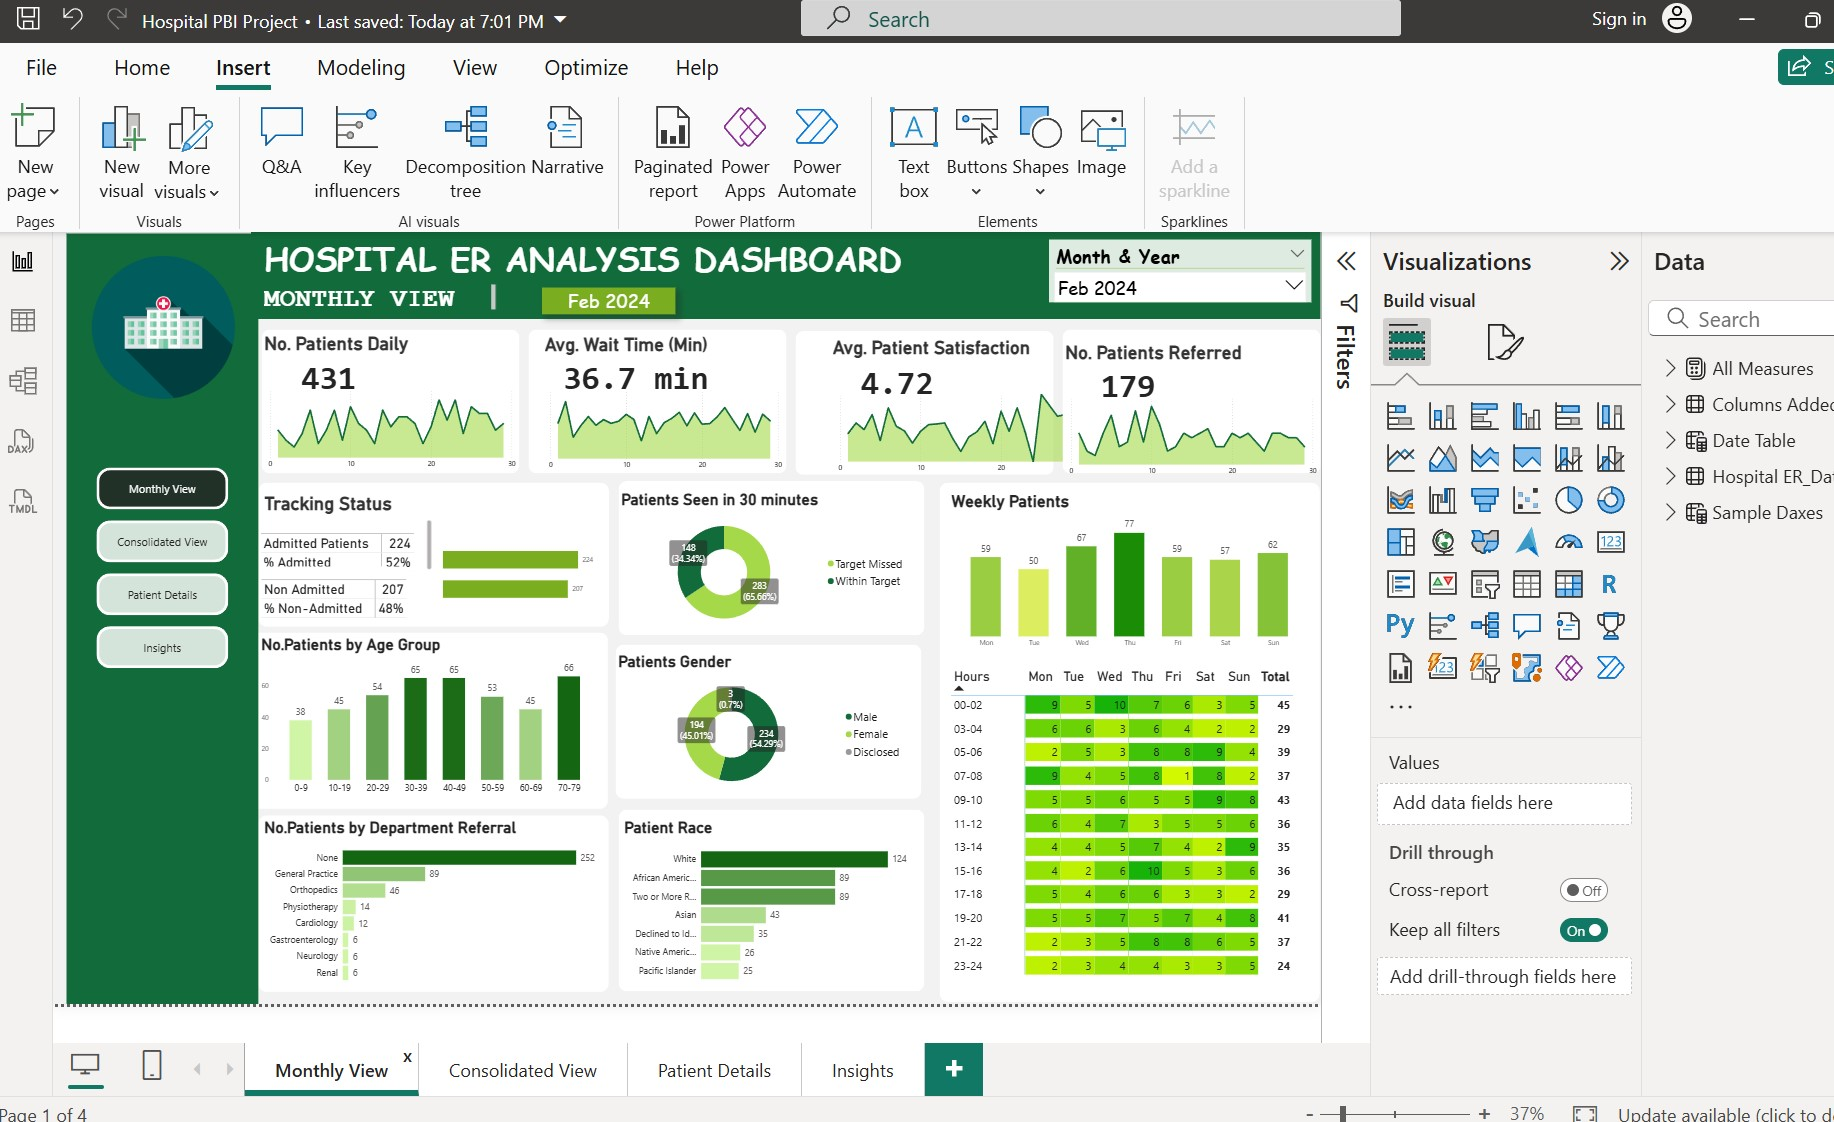

This screenshot's page, from the dashboard's own definition file:
{"tool":"powerbi","page":{"name":"Monthly View","canvas":[2300,1400],"ordinal":0},"visuals":[{"type":"shape","box":[24.5,2.7,348.3,1398.5],"z":0,"group":"g1"},{"type":"shape","box":[1025,452.5,555,280],"z":0},{"type":"shape","box":[359.2,0,1940,157.8],"z":1000},{"type":"textbox","box":[378.2,0,1276.1,108.8],"z":2000},{"type":"shape","box":[378.2,176.9,468,261.2],"z":3000},{"type":"card","fields":{"Values":["All Measures.No.of Patients"]},"box":[404.4,222.1,188.2,72.1],"z":4000},{"type":"slicer","fields":{"Values":["Date Table.Month & Year"]},"box":[1806.6,13.6,476.1,114.3],"z":5000},{"type":"card","fields":{"Values":["Min(Date Table.Month & Year)"]},"box":[887,101.6,242.2,49],"z":6000},{"type":"textbox","box":[378.2,89.8,429.9,59.9],"z":7000},{"type":"areaChart","fields":{"Y":["All Measures.Total Patients"],"Category":["Date Table.Date.Variation.Date Hierarchy.Day"]},"box":[378,273.2,468.3,165.9],"z":8000},{"type":"textbox","box":[378,178,429.3,58.5],"z":9000},{"type":"shape","box":[862.5,178,468.3,261],"z":10000},{"type":"card","fields":{"Values":["All Measures.Ave Waiting"]},"box":[914.1,223.4,285.9,71.9],"z":11000},{"type":"areaChart","fields":{"Category":["Date Table.Date.Variation.Date Hierarchy.Day"],"Y":["Avg(Hospital ER_Data.Patient Waittime)"]},"box":[887.5,275,442.5,165],"z":12000},{"type":"textbox","box":[887.2,179.9,429.3,58.5],"z":13000},{"type":"shape","box":[1347.1,180.5,468.3,261],"z":14000},{"type":"card","fields":{"Values":["All Measures.Avg Satisfaction"]},"box":[1437.2,230.4,188.2,72.1],"z":15000},{"type":"areaChart","fields":{"Category":["Date Table.Date.Variation.Date Hierarchy.Day"],"Y":["All Measures.Avg Satisfaction"]},"box":[1410.8,281.5,468.3,165.9],"z":16000},{"type":"textbox","box":[1409.8,185.4,397.6,58.5],"z":17000},{"type":"shape","box":[1831.7,178,468.3,261],"z":18000},{"type":"card","fields":{"Values":["All Measures.No.Referred"]},"box":[1856.9,235.6,188.2,72.1],"z":19000},{"type":"areaChart","fields":{"Category":["Date Table.Date.Variation.Date Hierarchy.Day"],"Y":["All Measures.No.Referred"]},"box":[1830.6,286.7,468.3,165.9],"z":20000},{"type":"textbox","box":[1831.7,192.7,395.1,58.5],"z":21000},{"type":"shape","box":[371.4,454.8,635.7,261.9],"z":22000},{"type":"pivotTable","fields":{"Values":["All Measures.Admitted Patients","All Measures.% Admitted"]},"box":[371.4,516.7,319,102.4],"z":23000},{"type":"pivotTable","fields":{"Values":["All Measures.Non Admitted","All Measures.% Non-Admitted"]},"box":[371.4,602.4,340.5,114.3],"z":24000},{"type":"barChart","fields":{"Category":["AdmissionStatus.Status"],"Y":["AdmissionStatus.Patients Count"]},"box":[702.5,537.5,287.5,160],"z":25000},{"type":"shape","box":[360,727.5,647.5,320],"z":26000},{"type":"clusteredColumnChart","title":"No.Patients by Age Group","fields":{"Category":["Hospital ER_Data.Age group Intervals"],"Y":["All Measures.No.Patients"]},"box":[372.5,732.5,617.5,297.5],"z":27000},{"type":"shape","box":[372.5,1057.5,635,320],"z":28000},{"type":"clusteredBarChart","fields":{"Category":["Hospital ER_Data.Department Referral"],"Y":["All Measures.No.Patients"]},"box":[377.5,1062.5,612.5,310],"z":29000},{"type":"donutChart","title":"Patients Seen in 30 minutes","fields":{"Category":["Hospital ER_Data.Waittime Status"],"Y":["All Measures.No.Patients"]},"box":[1025,467.5,530,265],"z":30000},{"type":"shape","box":[1021.7,747.5,555,280],"z":31000},{"type":"donutChart","title":"Patients Gender","fields":{"Y":["All Measures.No.Patients"],"Category":["Hospital ER_Data.Patient Gender"]},"box":[1021.7,762.5,530,265],"z":32000},{"type":"shape","box":[1025,1047.5,555,330],"z":33000},{"type":"clusteredBarChart","title":"Patient Race","fields":{"Y":["All Measures.No.Patients"],"Category":["Hospital ER_Data.Patient Race"]},"box":[1032.5,1062.5,522.5,310],"z":34000},{"type":"shape","box":[1607.5,455,690,942.5],"z":35000},{"type":"pivotTable","fields":{"Rows":["Hospital ER_Data.Hour Interval"],"Columns":["Date Table.Day Name"],"Values":["All Measures.No.Patients"]},"box":[1625,782.5,657.5,572.5],"z":36000},{"type":"clusteredColumnChart","title":"Weekly Patients","fields":{"Y":["All Measures.No.Patients"],"Category":["Date Table.Day Name"]},"box":[1625,470,657.5,292.5],"z":37000},{"type":"textbox","box":[377.5,467.5,430,60],"z":38000},{"type":"group","id":"g1","title":"Group 1","box":[24.5,2.7,348.3,1398.5],"z":39000},{"type":"pageNavigator","box":[77.6,427.9,239.4,364.6],"z":39000,"group":"g1"},{"type":"image","box":[65.3,38.1,269.4,269.4],"z":40000}]}

Visuals, with their boxes on the page's 2300x1400 design canvas (x1, y1, x2, y2). These are canvas units, not pixel positions in the 1834x1122 screenshot, which may show the page scaled, cropped or inside an application window:
shape: 24, 3, 373, 1401
shape: 1025, 452, 1580, 732
shape: 359, 0, 2299, 158
textbox: 378, 0, 1654, 109
shape: 378, 177, 846, 438
card - All Measures.No.of Patients: 404, 222, 593, 294
slicer - Date Table.Month & Year: 1807, 14, 2283, 128
card - Min(Date Table.Month & Year): 887, 102, 1129, 151
textbox: 378, 90, 808, 150
areaChart - All Measures.Total Patients x Date Table.Date.Variation.Date Hierarchy.Day: 378, 273, 846, 439
textbox: 378, 178, 807, 236
shape: 862, 178, 1331, 439
card - All Measures.Ave Waiting: 914, 223, 1200, 295
areaChart - Date Table.Date.Variation.Date Hierarchy.Day x Avg(Hospital ER_Data.Patient Waittime): 888, 275, 1330, 440
textbox: 887, 180, 1316, 238
shape: 1347, 180, 1815, 442
card - All Measures.Avg Satisfaction: 1437, 230, 1625, 302
areaChart - Date Table.Date.Variation.Date Hierarchy.Day x All Measures.Avg Satisfaction: 1411, 282, 1879, 447
textbox: 1410, 185, 1807, 244
shape: 1832, 178, 2300, 439
card - All Measures.No.Referred: 1857, 236, 2045, 308
areaChart - Date Table.Date.Variation.Date Hierarchy.Day x All Measures.No.Referred: 1831, 287, 2299, 453
textbox: 1832, 193, 2227, 251
shape: 371, 455, 1007, 717
pivotTable - All Measures.Admitted Patients x All Measures.% Admitted: 371, 517, 690, 619
pivotTable - All Measures.Non Admitted x All Measures.% Non-Admitted: 371, 602, 712, 717
barChart - AdmissionStatus.Status x AdmissionStatus.Patients Count: 702, 538, 990, 698
shape: 360, 728, 1008, 1048
"No.Patients by Age Group" clusteredColumnChart: 372, 732, 990, 1030
shape: 372, 1058, 1008, 1378
clusteredBarChart - Hospital ER_Data.Department Referral x All Measures.No.Patients: 378, 1062, 990, 1372
"Patients Seen in 30 minutes" donutChart: 1025, 468, 1555, 732
shape: 1022, 748, 1577, 1028
"Patients Gender" donutChart: 1022, 762, 1552, 1028
shape: 1025, 1048, 1580, 1378
"Patient Race" clusteredBarChart: 1032, 1062, 1555, 1372
shape: 1608, 455, 2298, 1398
pivotTable - Hospital ER_Data.Hour Interval x Date Table.Day Name: 1625, 782, 2282, 1355
"Weekly Patients" clusteredColumnChart: 1625, 470, 2282, 762
textbox: 378, 468, 808, 528
"Group 1" group: 24, 3, 373, 1401
pageNavigator: 78, 428, 317, 792
image: 65, 38, 335, 308
